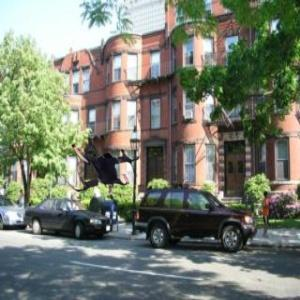drone: (60, 120, 144, 204)
